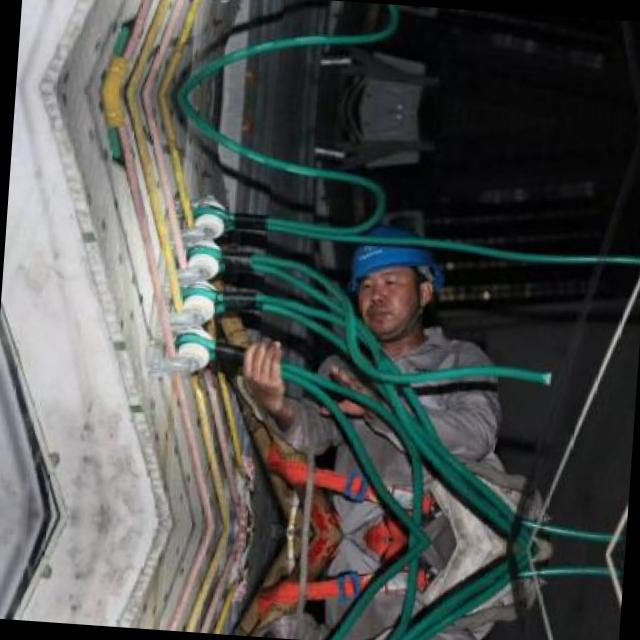helmet: (336, 218, 452, 344)
